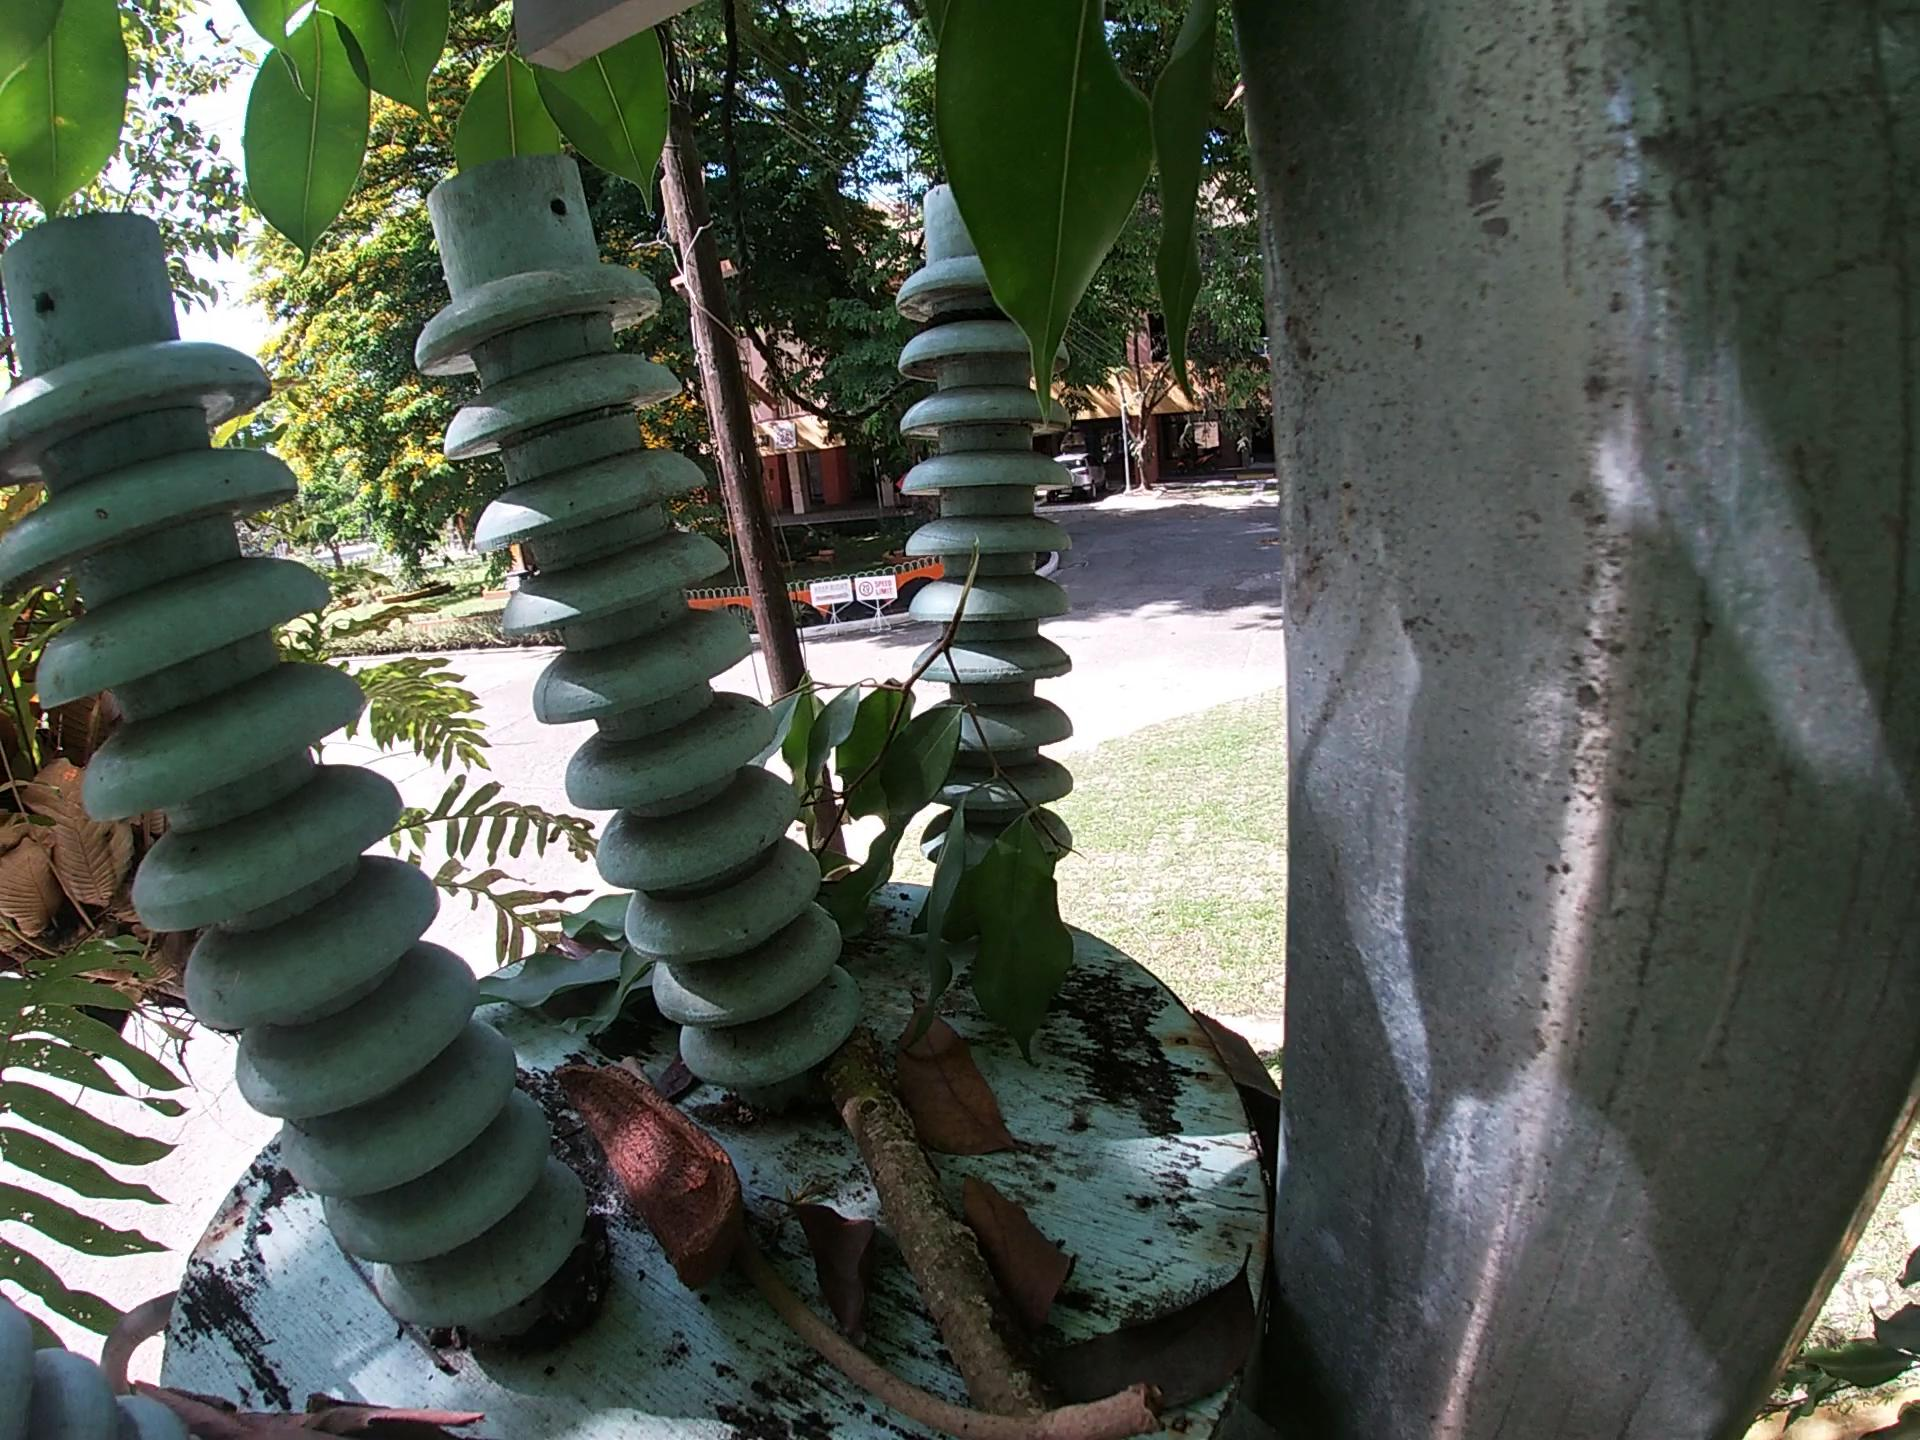branch with leaves: (727, 504, 1085, 1060)
leaf: (472, 883, 692, 1078), (1027, 1251, 1265, 1408), (958, 1178, 1117, 1330), (893, 992, 1020, 1159), (780, 1177, 909, 1330)
mahogany fruit: (550, 1060, 738, 1266)
tree branch: (754, 1262, 1160, 1440), (844, 1080, 1030, 1416), (301, 1219, 478, 1379), (121, 1366, 482, 1440), (618, 1054, 659, 1100)
